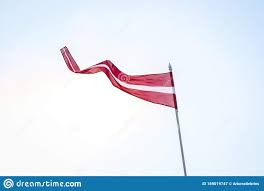Flag: (60, 46, 178, 110)
